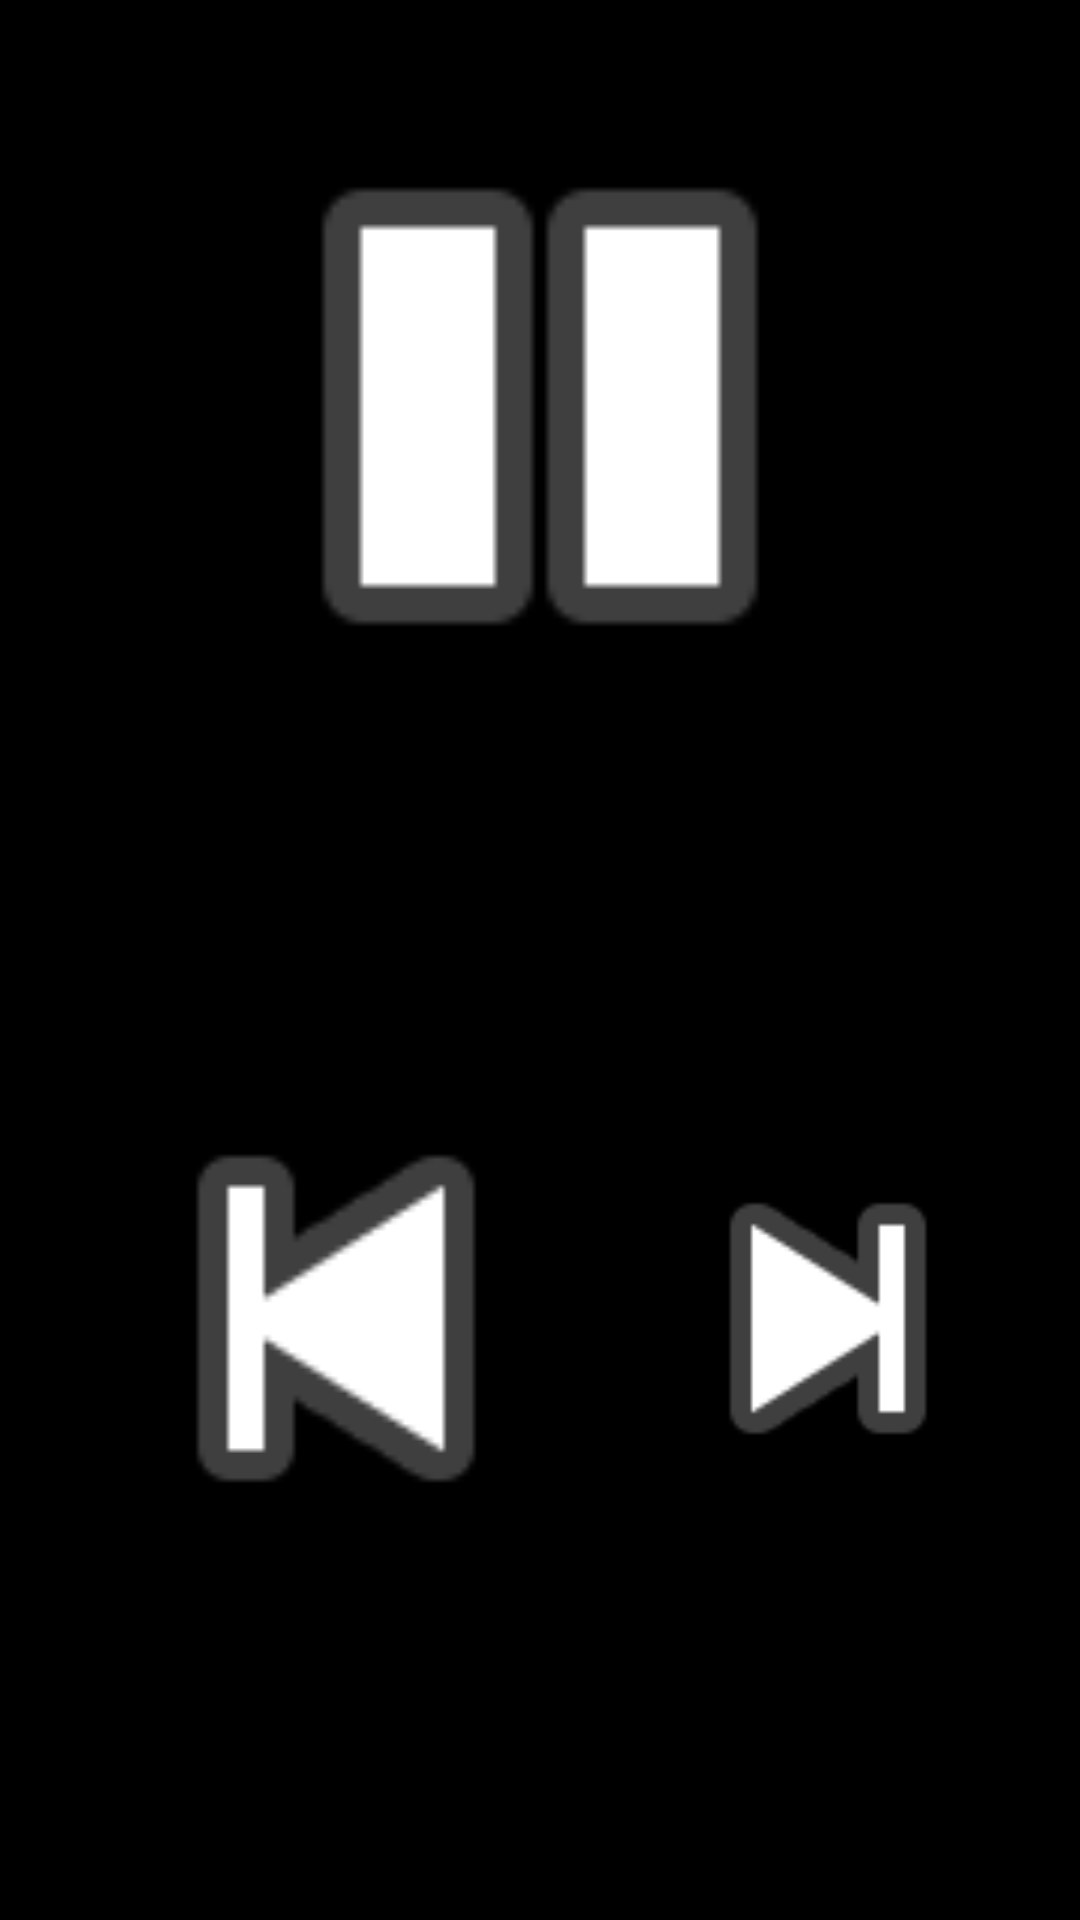

Icon click points for this 1080 × 1920 phone screenshot, format [x,y]:
next: [828,1318]
